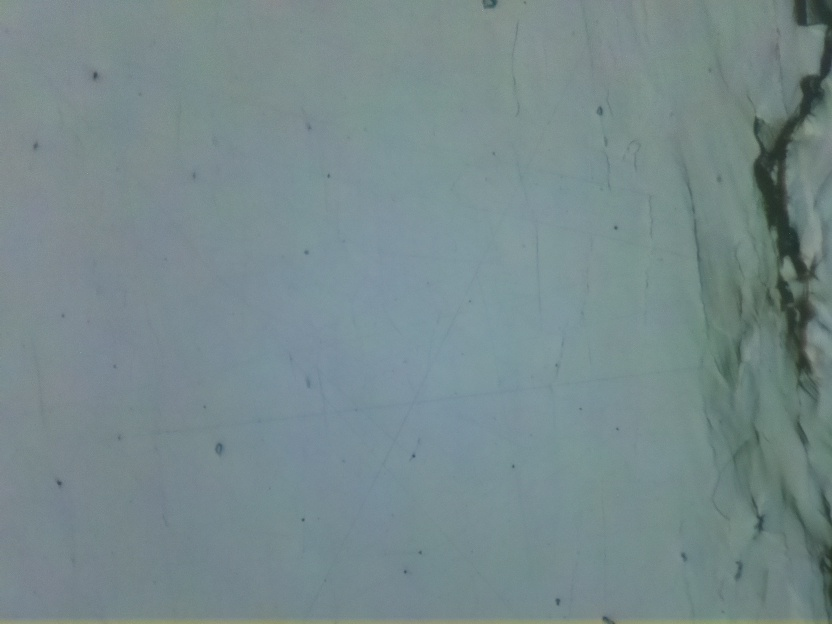crack: (753, 0, 832, 388)
